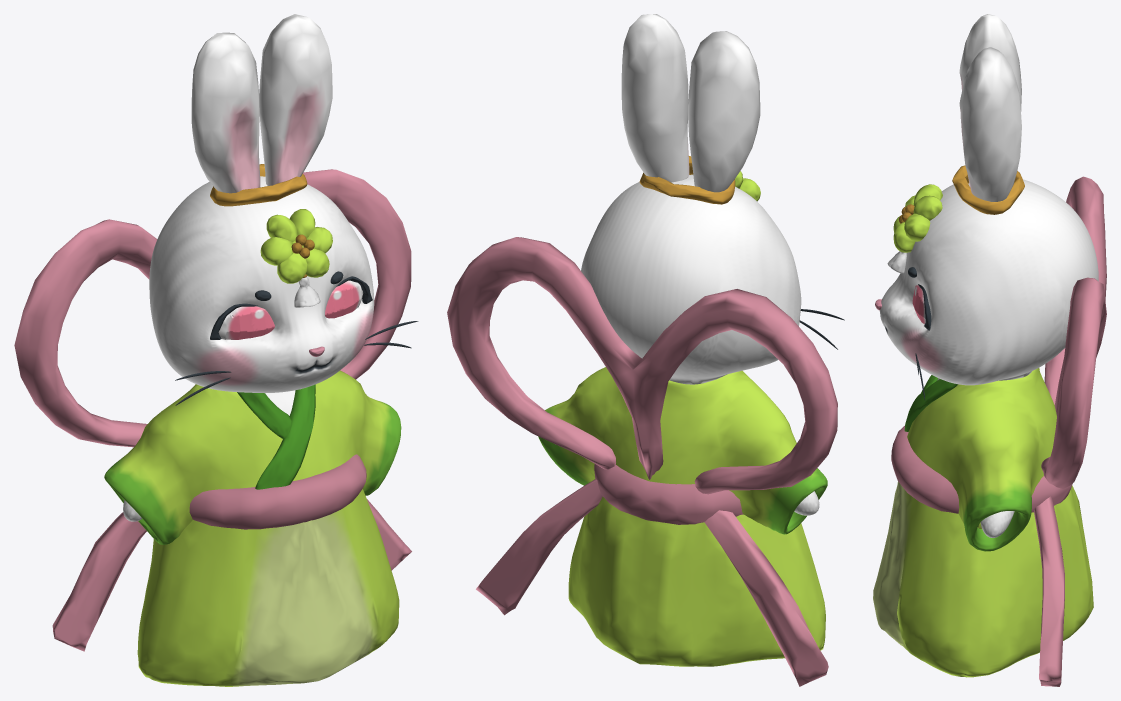
3 views of the same model, side by side, from view 1: azimuth 30°, elevation 25°; view 2: azimuth 150°, elevation 25°; view 3: azimuth 270°, elevation 25° (orthographic). The views are drawn at different scales.
Visible parts, largest first — view 1: PM3D_Ring3D1_2; view 2: PM3D_Ring3D1_2; view 3: PM3D_Ring3D1_2.
Part boxes in pixels (<box>): PM3D_Ring3D1_2: <box>14,14,418,686</box>; PM3D_Ring3D1_2: <box>447,14,844,686</box>; PM3D_Ring3D1_2: <box>873,14,1106,686</box>.
Bounding box in the file's own units: 35.95 × 53.43 × 19.28.
